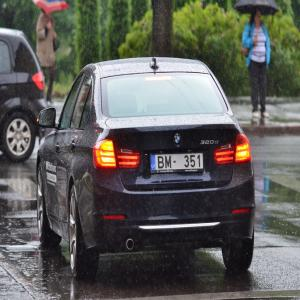Vehicle-registration-plate: (150, 153, 204, 173)
